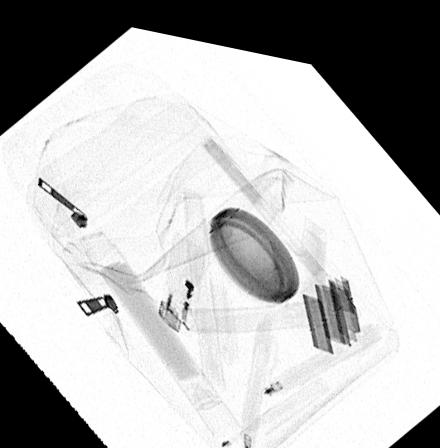Lighter: (157, 226, 209, 325)
